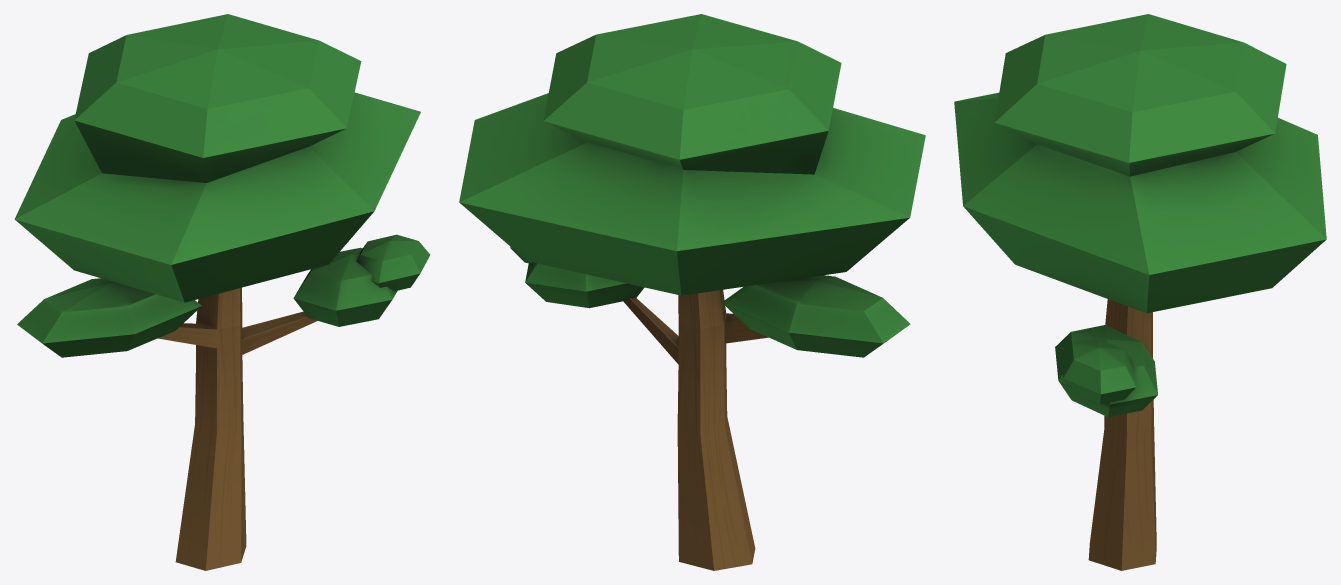
File: tree2.fbx
The picture shows the model from 3 angles, left to right: view 1: azimuth 30°, elevation 25°; view 2: azimuth 150°, elevation 25°; view 3: azimuth 270°, elevation 25°; orthographic projection. The views are drawn at different scales.
Parts seen in each view (by area): view 1: polySurface14, polySurface12, polySurface13, polySurface11, polySurface15; view 2: polySurface14, polySurface12, polySurface13, polySurface11; view 3: polySurface14, polySurface12, polySurface15, polySurface11.
Boxes of the visible parts, left/top/right/bottom form: polySurface14: left=14, top=14, right=420, bottom=302; polySurface12: left=158, top=287, right=317, bottom=570; polySurface13: left=17, top=278, right=201, bottom=357; polySurface11: left=293, top=247, right=397, bottom=326; polySurface15: left=356, top=234, right=430, bottom=291; polySurface14: left=459, top=14, right=925, bottom=295; polySurface12: left=623, top=289, right=768, bottom=570; polySurface13: left=722, top=275, right=910, bottom=357; polySurface11: left=525, top=262, right=644, bottom=308; polySurface14: left=954, top=14, right=1326, bottom=313; polySurface12: left=1088, top=299, right=1156, bottom=570; polySurface15: left=1061, top=338, right=1135, bottom=404; polySurface11: left=1055, top=325, right=1157, bottom=417.
Size of the model in its own units: 11.99 by 13.65 by 9.03.
